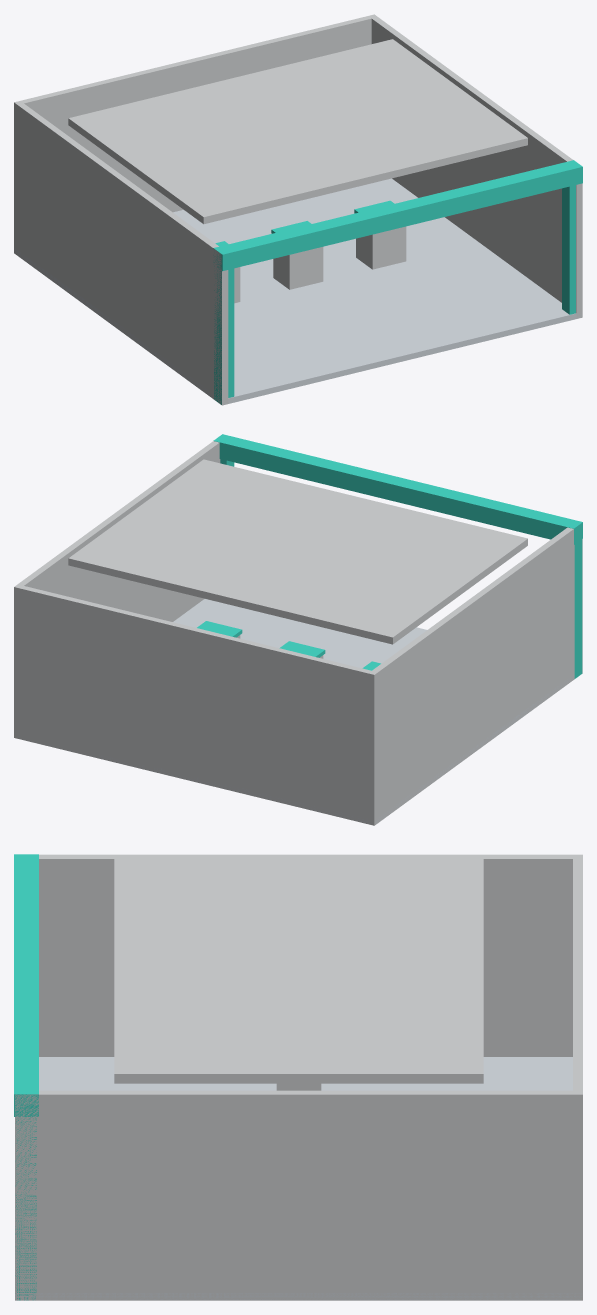
3 renders of one model, top to bottom at view 1: azimuth 30°, elevation 25°; view 2: azimuth 150°, elevation 25°; view 3: azimuth 270°, elevation 25°, orthographic. The views are drawn at different scales.
Parts seen in each view (by area): view 1: Exhibition Booth Concept; view 2: Exhibition Booth Concept; view 3: Exhibition Booth Concept.
Part boxes in pixels (<box>): Exhibition Booth Concept: <box>14,14,582,405</box>; Exhibition Booth Concept: <box>14,434,582,825</box>; Exhibition Booth Concept: <box>14,854,582,1300</box>.
Bounding box in the file's own units: 8 × 3.34 × 8.01.
